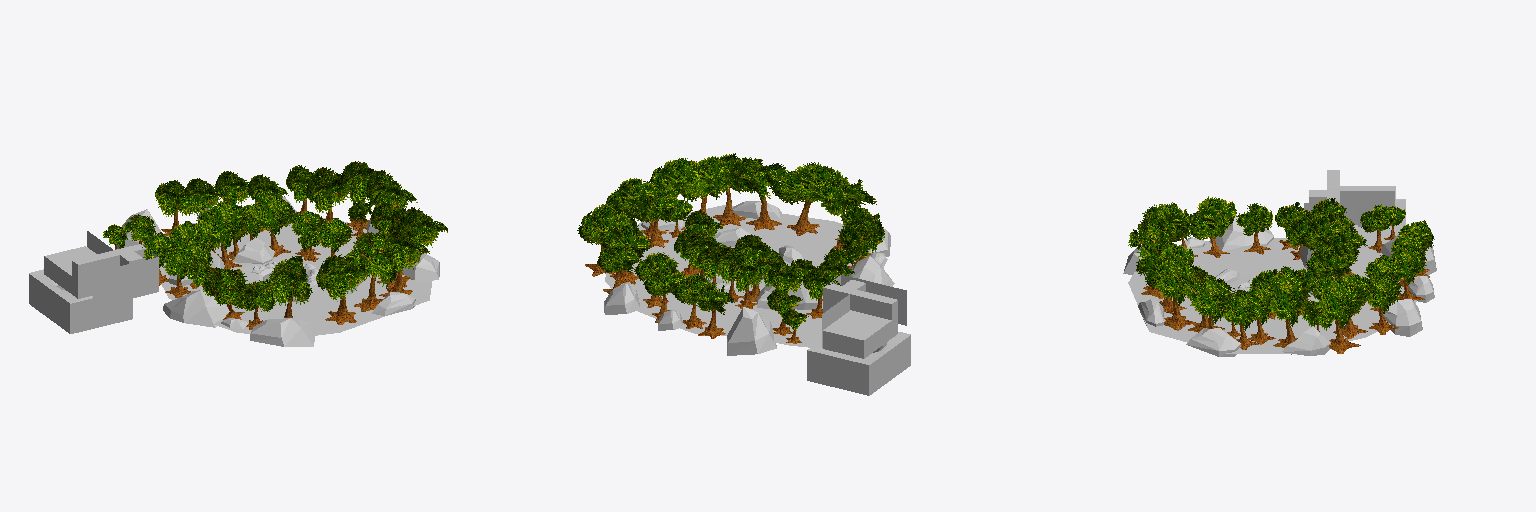
The picture shows the model from 3 angles: view 1: azimuth 30°, elevation 25°; view 2: azimuth 150°, elevation 25°; view 3: azimuth 270°, elevation 25°; orthographic projection.
Visible parts, largest first — view 1: tree.001, visual, visual.002, visual.003; view 2: tree.001, visual, visual.002, visual.003; view 3: tree.001, visual, visual.002.
Part boxes in pixels (x1,y1,x2,y2): tree.001: (123, 161, 447, 329); visual: (44, 218, 431, 335); visual.002: (114, 197, 439, 346); visual.003: (29, 269, 132, 333); tree.001: (577, 153, 884, 338); visual: (605, 205, 906, 358); visual.002: (604, 201, 894, 355); visual.003: (807, 332, 910, 395); tree.001: (1128, 196, 1434, 354); visual: (1128, 170, 1418, 353); visual.002: (1123, 215, 1436, 356).
Size of the model in its own units: 65.75 by 20.74 by 55.08.
2 materials, 2 textured.